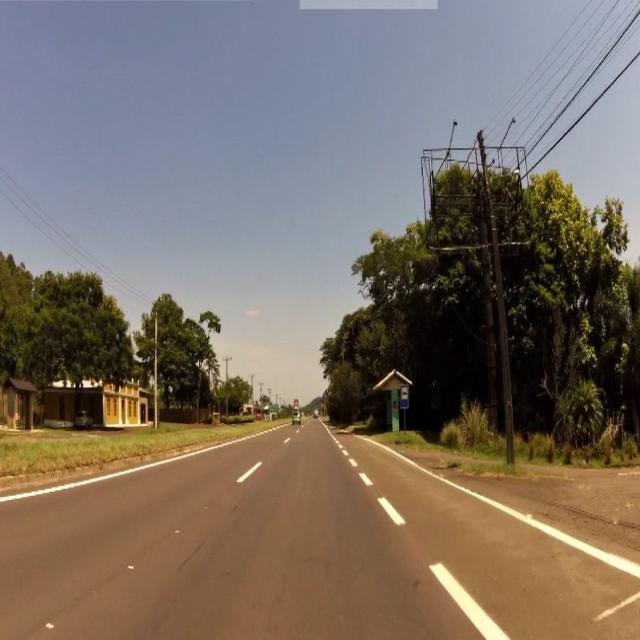S-14: (402, 386, 408, 412)
